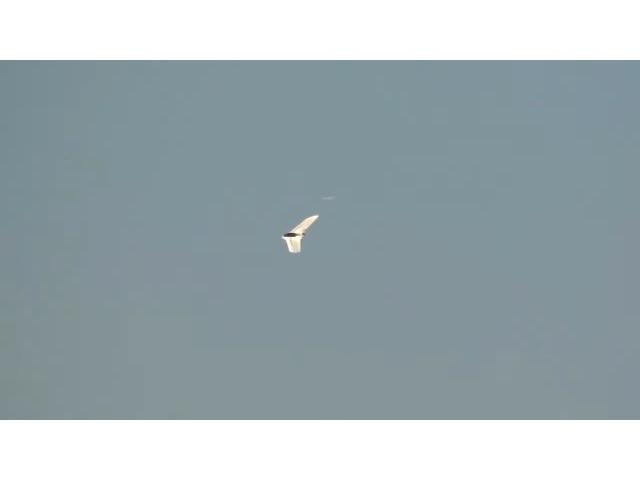Anti-Drone: (282, 216, 318, 254)
